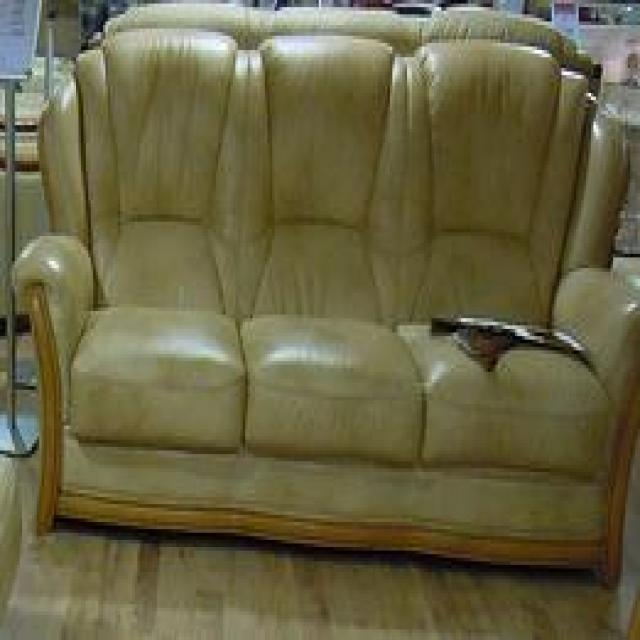sofa: (7, 18, 640, 593)
